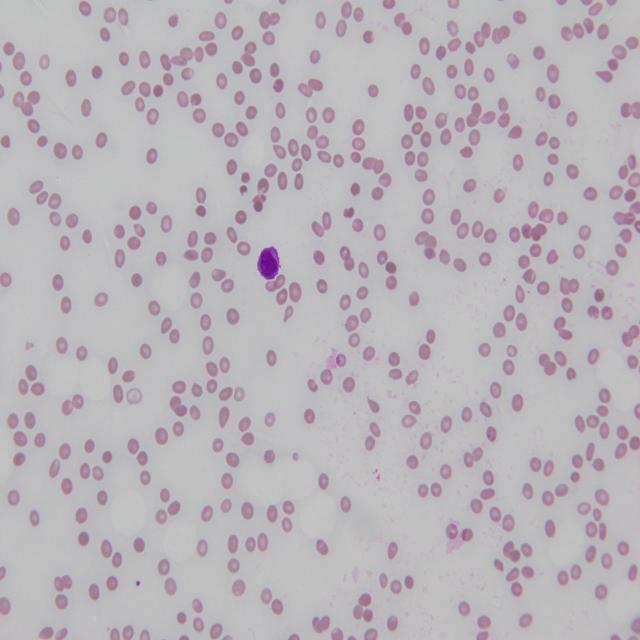cell: (258, 247, 280, 279)
